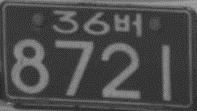1: (150, 43, 182, 101)
2: (100, 40, 141, 100)
3: (51, 9, 78, 34)
6: (82, 11, 110, 36)
7: (53, 38, 94, 97)
8: (9, 37, 49, 94)
버: (112, 12, 142, 38)
